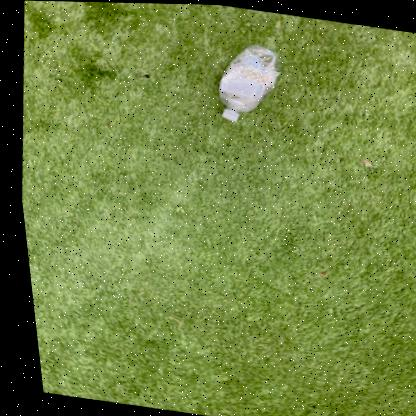Plastic: (217, 43, 278, 120)
